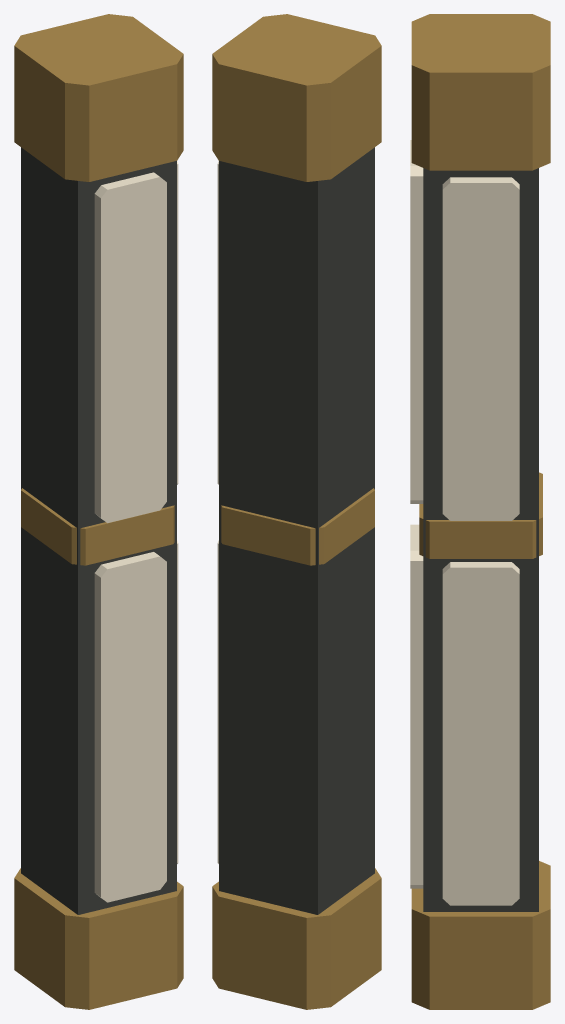
The model's file is b1_corner.glb.
3 renders of one model, left to right at view 1: azimuth 30°, elevation 25°; view 2: azimuth 150°, elevation 25°; view 3: azimuth 270°, elevation 25°, orthographic.
Parts seen in each view (by area): view 1: b1_corner; view 2: b1_corner; view 3: b1_corner.
Part boxes in pixels (x1,y1,x2,y2): b1_corner: [14, 14, 183, 1009]; b1_corner: [212, 14, 381, 1009]; b1_corner: [410, 14, 550, 1009].
Bounding box in the file's own units: 0.545 × 4.02 × 0.545.
